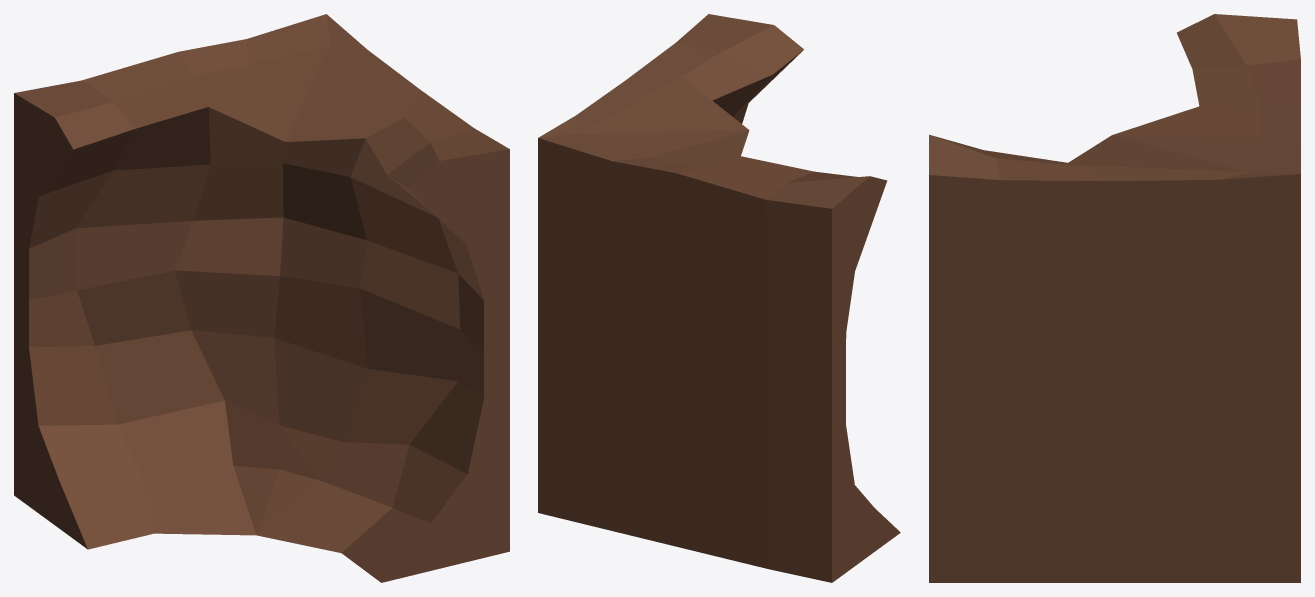
File: CaveWallRoundSmall.fbx
3 renders of one model, left to right at view 1: azimuth 30°, elevation 25°; view 2: azimuth 150°, elevation 25°; view 3: azimuth 270°, elevation 25°, orthographic. The views are drawn at different scales.
Parts seen in each view (by area): view 1: CaveWallRoundSmall; view 2: CaveWallRoundSmall; view 3: CaveWallRoundSmall.
Part boxes in pixels (box(x1,y1,x2,y2)): CaveWallRoundSmall: box(14, 14, 509, 582); CaveWallRoundSmall: box(538, 14, 900, 582); CaveWallRoundSmall: box(929, 14, 1300, 582).
Size of the model in its own units: 286 by 355 by 289.
1 material, 1 textured.
